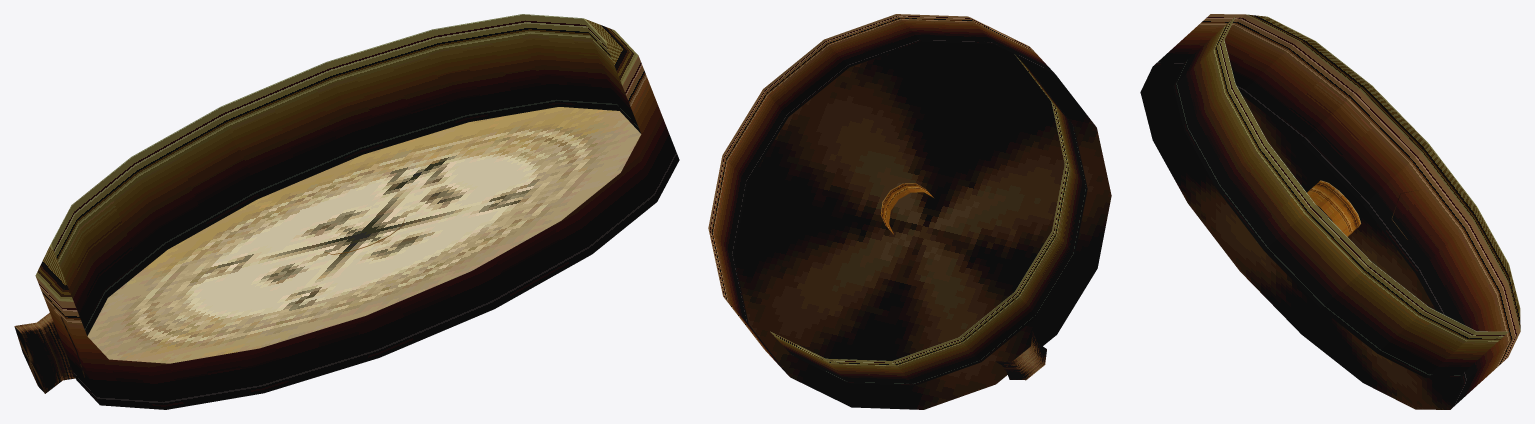
The model's file is ps2_save-icons_proatlasfortvkinki.glb.
3 views of the same model, side by side, from view 1: azimuth 30°, elevation 25°; view 2: azimuth 150°, elevation 25°; view 3: azimuth 270°, elevation 25° (orthographic). The views are drawn at different scales.
Visible parts, largest first — view 1: mc.ico; view 2: mc.ico; view 3: mc.ico.
Boxes of the visible parts, bbox=[...] form: mc.ico: bbox=[14, 14, 679, 409]; mc.ico: bbox=[708, 14, 1111, 409]; mc.ico: bbox=[1140, 14, 1520, 409].
Size of the model in its own units: 3.56 by 2.97 by 2.97.
1 material, 1 textured.
